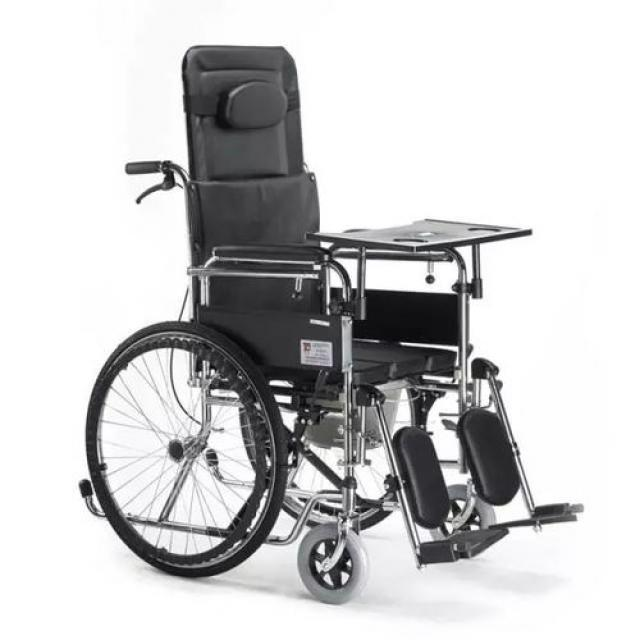wheelchair: (77, 28, 589, 612)
